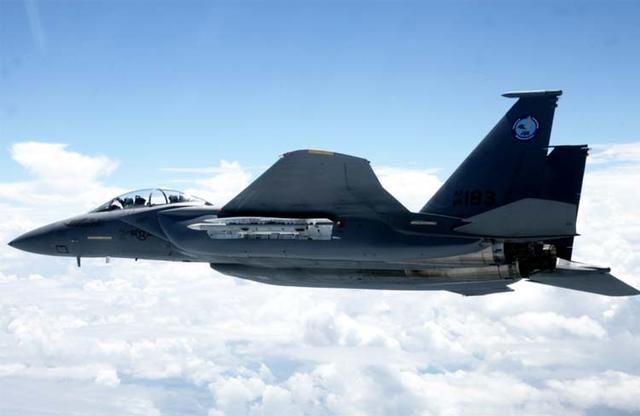airplane: (6, 85, 640, 296)
